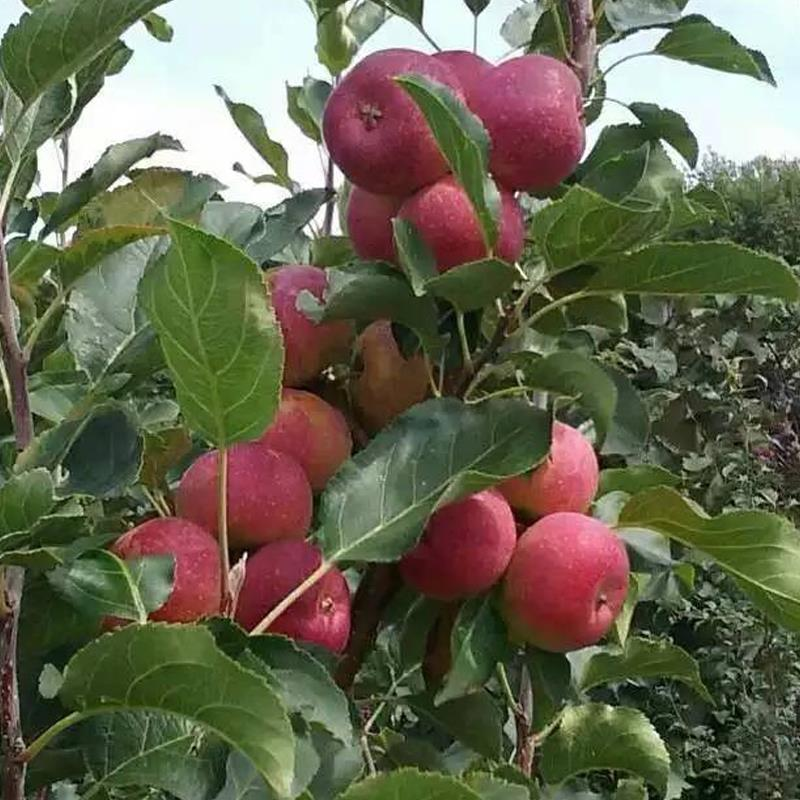apple: (322, 46, 474, 187), (501, 516, 626, 654), (175, 443, 314, 555), (474, 56, 586, 187), (407, 490, 517, 603), (399, 176, 525, 274), (118, 515, 227, 623), (237, 543, 350, 647), (494, 420, 598, 523), (262, 262, 346, 381), (263, 388, 351, 481)
